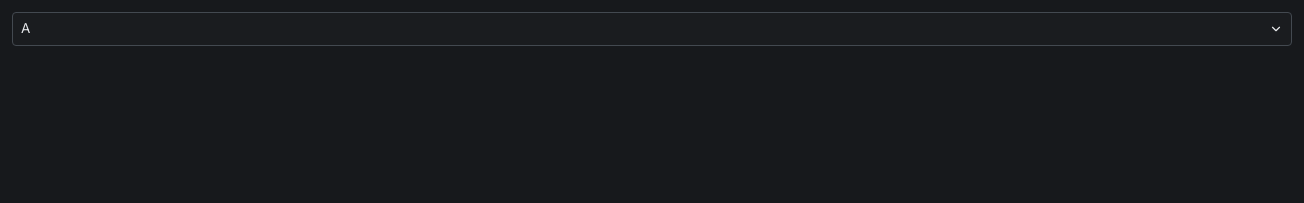
Test: Picker keyboard › choosing with the keyboard sets the value, closes and returns the focus
This screenshot has width=1304, height=203.
Press ArrowDown in the button with test id "p", box x1=12 y1=12 x2=1292 y2=46
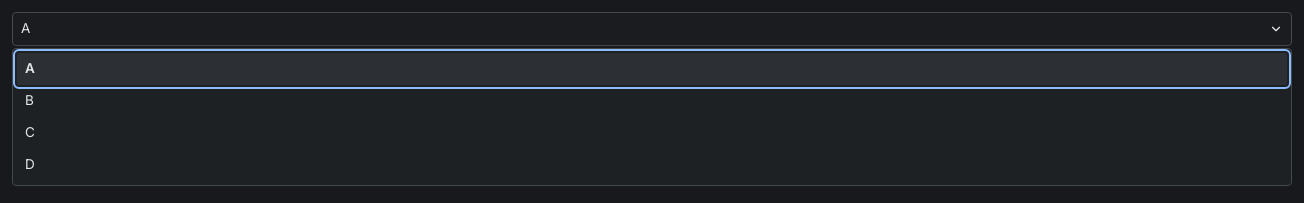
Press ArrowDown in the list
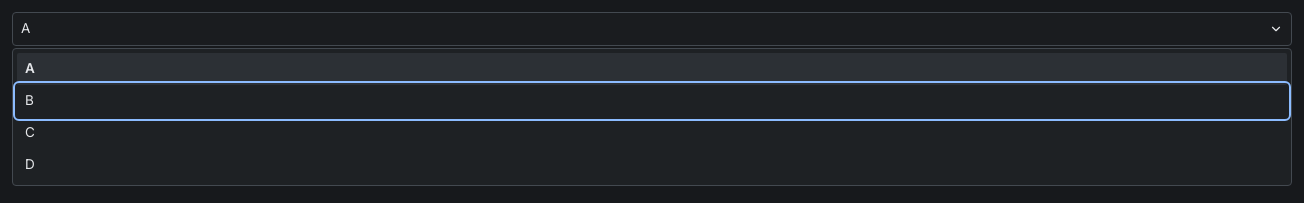
Enter/Space on the focused option button is its native click.
Click the option with test id "p-b". click: (29, 100)
box: x1=17 y1=85 x2=1287 y2=117
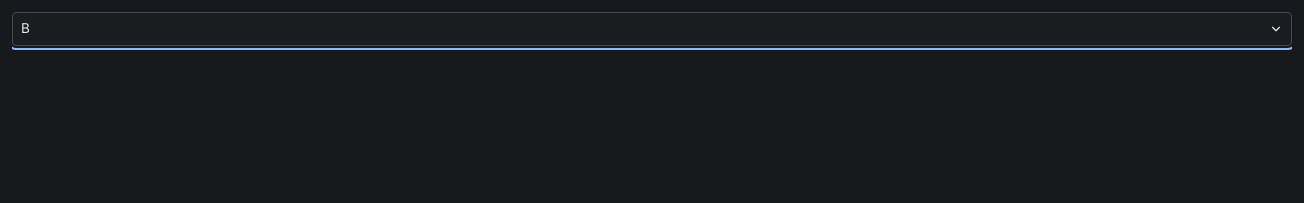
Expected: the list is gone
Expected: the button with test id "p" reads "B", x1=12 y1=12 x2=1292 y2=46
